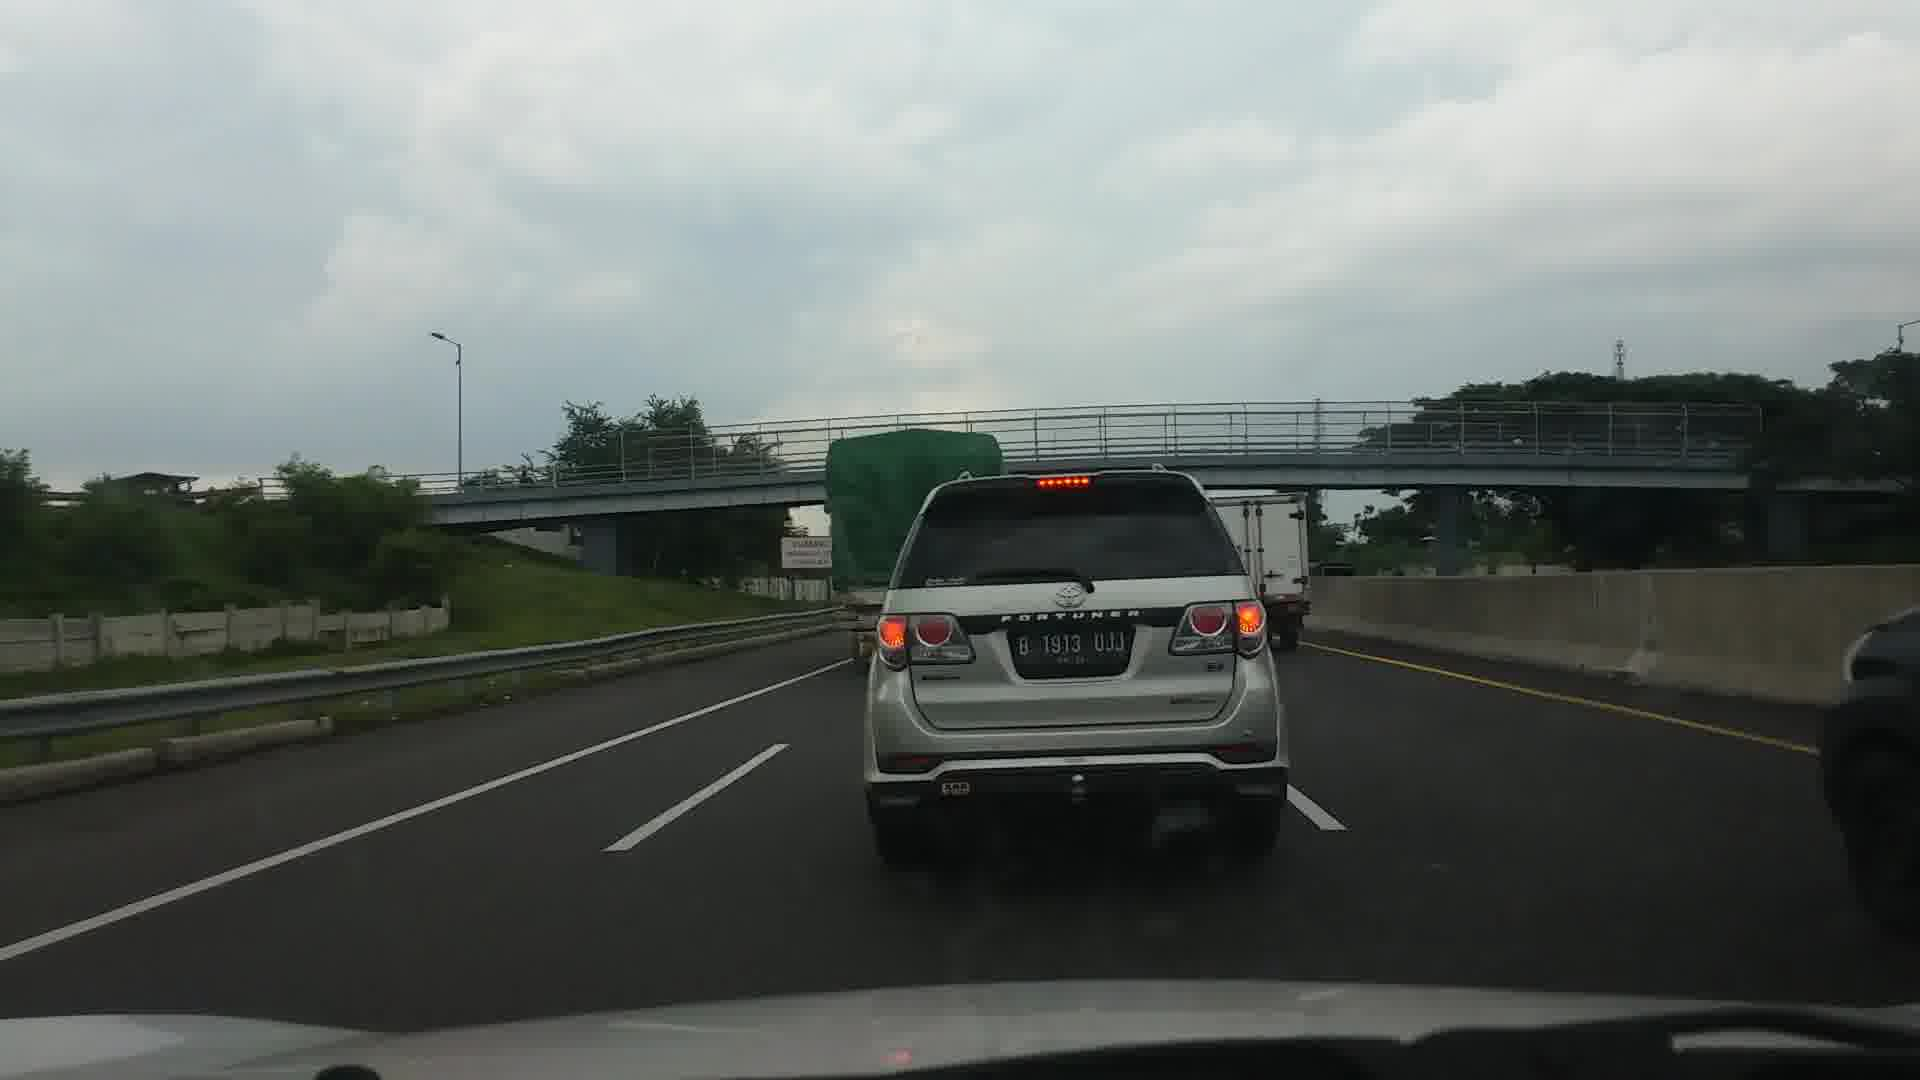plate_positive: (1014, 632, 1129, 665)
